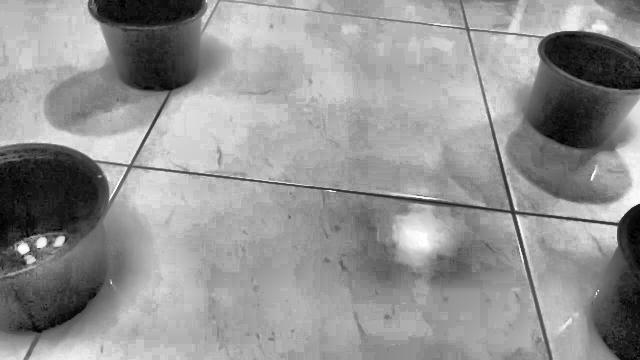pot: (0, 144, 108, 334), (526, 31, 640, 148), (88, 0, 206, 90), (592, 205, 640, 360)
